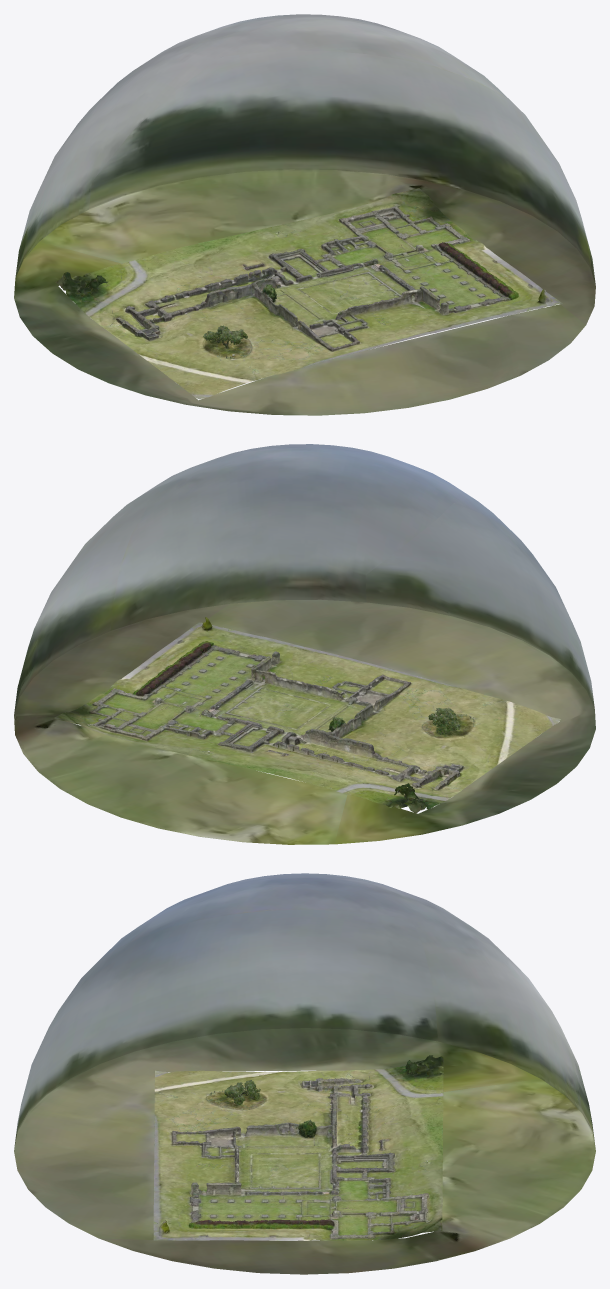
File: environment3.glb
The picture shows the model from 3 angles, top to bottom: view 1: azimuth 30°, elevation 25°; view 2: azimuth 150°, elevation 25°; view 3: azimuth 270°, elevation 25°; orthographic projection.
Visible parts, largest first — view 1: Object_19, Object_2; view 2: Object_19, Object_2; view 3: Object_19, Object_2.
Boxes of the visible parts, <box> form: Object_19: <box>14,14,595,415</box>; Object_2: <box>55,188,562,399</box>; Object_19: <box>14,444,595,844</box>; Object_2: <box>53,617,560,813</box>; Object_19: <box>14,873,595,1274</box>; Object_2: <box>153,1055,443,1240</box>.
Bounding box in the file's own units: 150 × 75.15 × 150.
2 materials, 2 textured.
